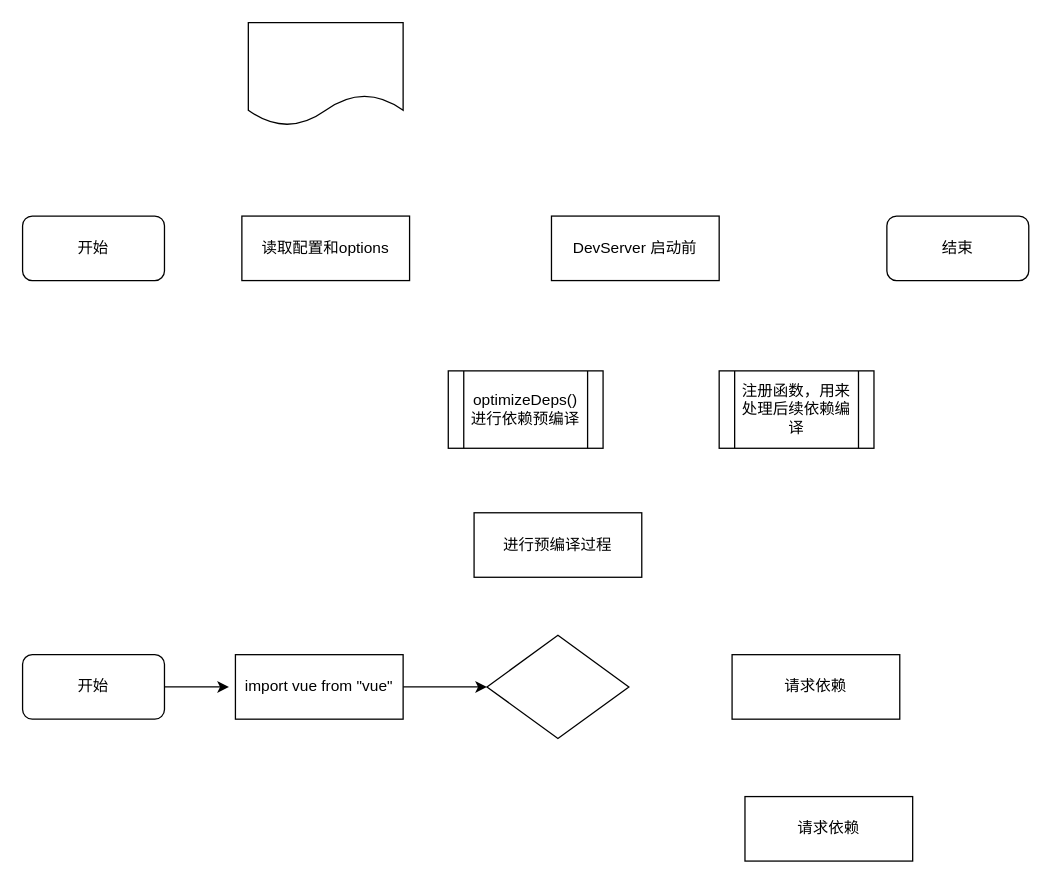
The diagram is 1051 pixels wide and 884 high, and some of its shapes have lost their labels. The centre of each missing label's shape, as x and y in pixels:
dependencies 、optimizeDeps: pixel 325 73
是否符合新的 预编译依赖: pixel 557 686
